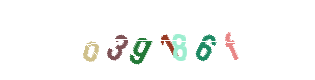1: (130, 0, 210, 80)
3: (94, 0, 174, 80)
6: (138, 0, 218, 80)
8: (138, 0, 218, 80)
F: (174, 0, 254, 80)
G: (117, 0, 197, 80)
O: (61, 0, 141, 80)
